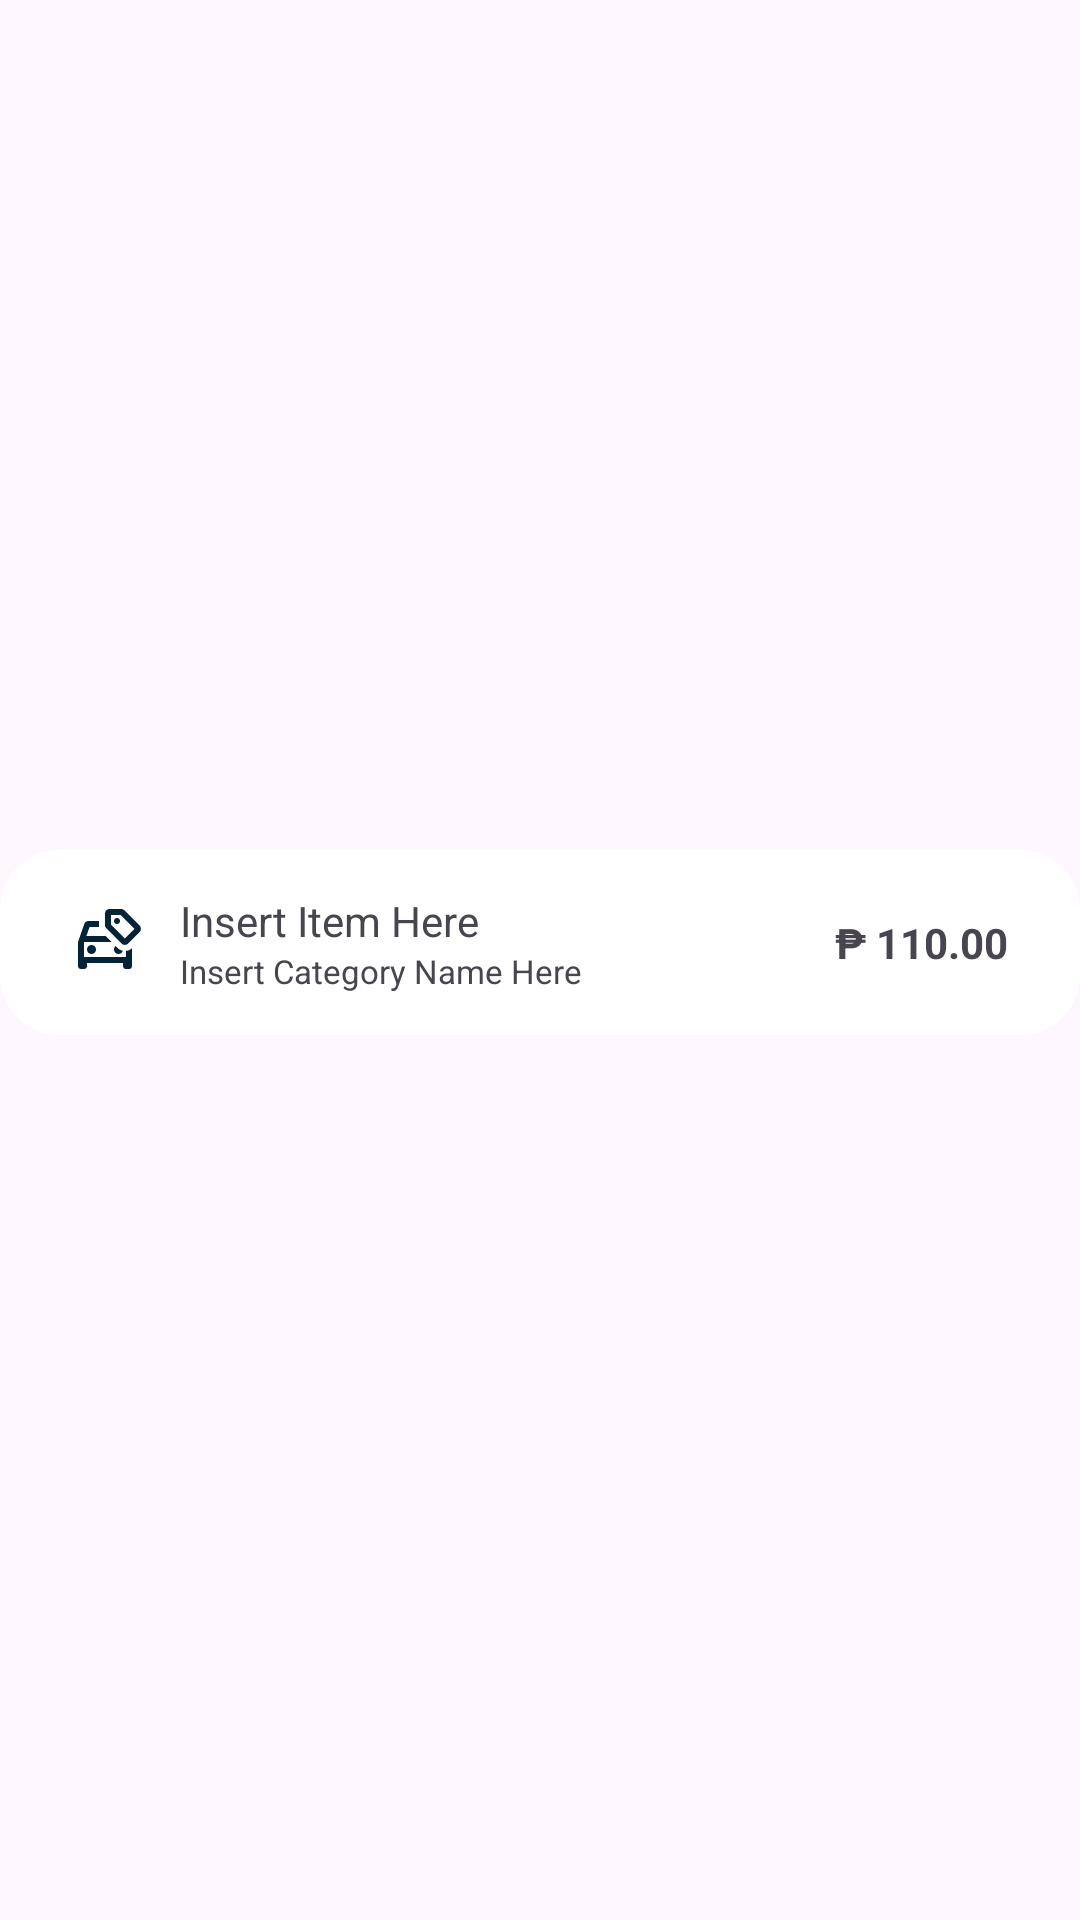

Named icons in this screenshot (1080 × 1920) and their bounding boxes, (x1, y1, x2, y2):
category transportation: (78, 909, 141, 969)
